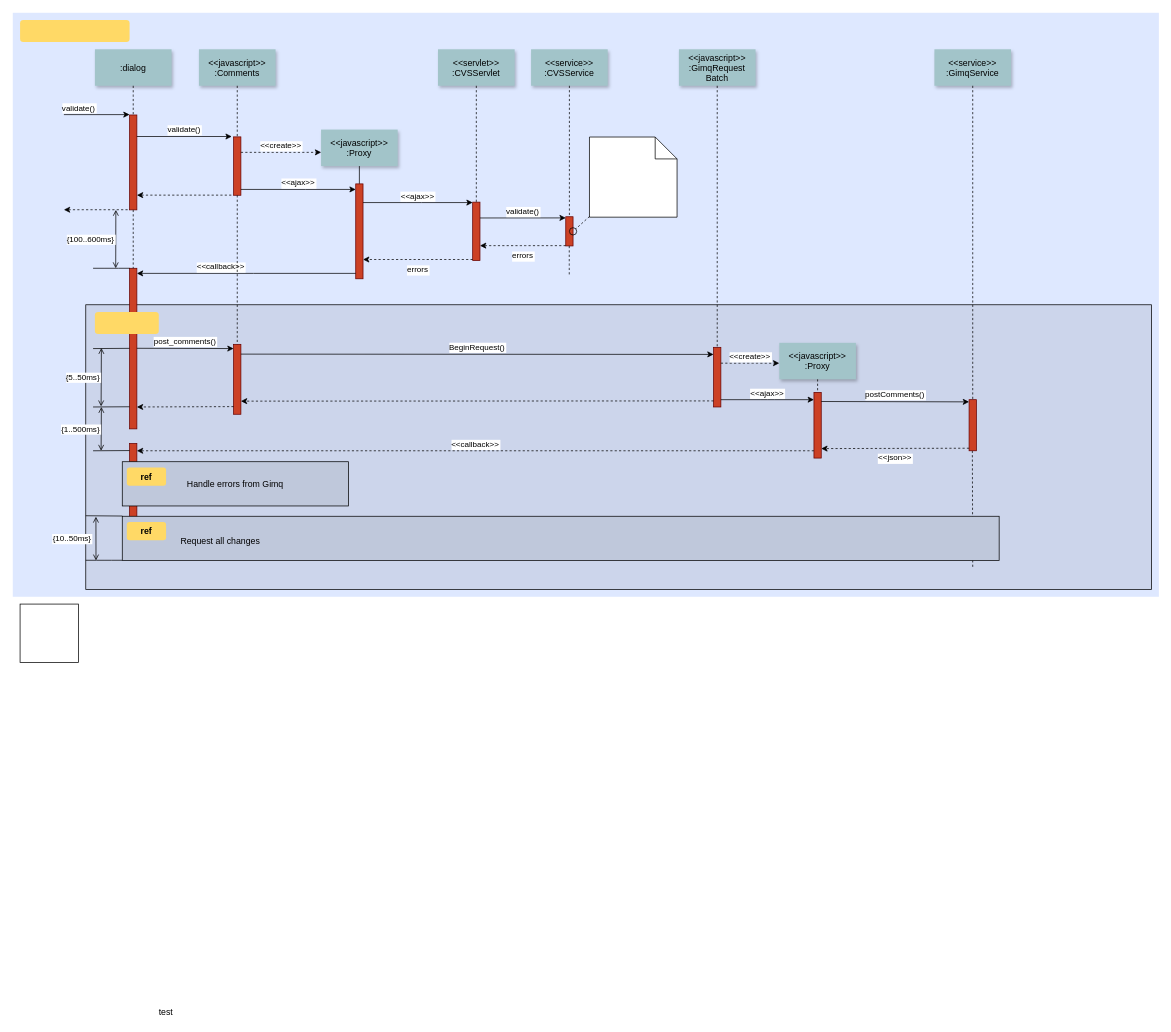
The diagram is 1171 pixels wide and 1032 high, and some of its shapes have lost their labels. Here are the shapes that lost their labels. From the top down, the centre of each, then its label:
[74,31]: rt submit_changes
[633,176]: - user validation - password check
[126,323]: opt
[48,632]: Text
